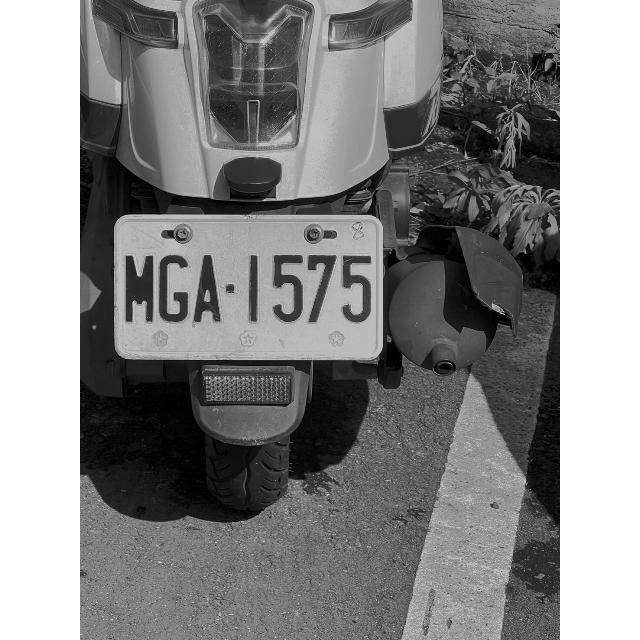-: (223, 282, 239, 296)
1: (244, 251, 262, 325)
5: (269, 252, 305, 324), (342, 250, 374, 324)
7: (306, 251, 338, 327)
A: (192, 248, 224, 326)
G: (157, 250, 191, 324)
M: (123, 250, 155, 330)
